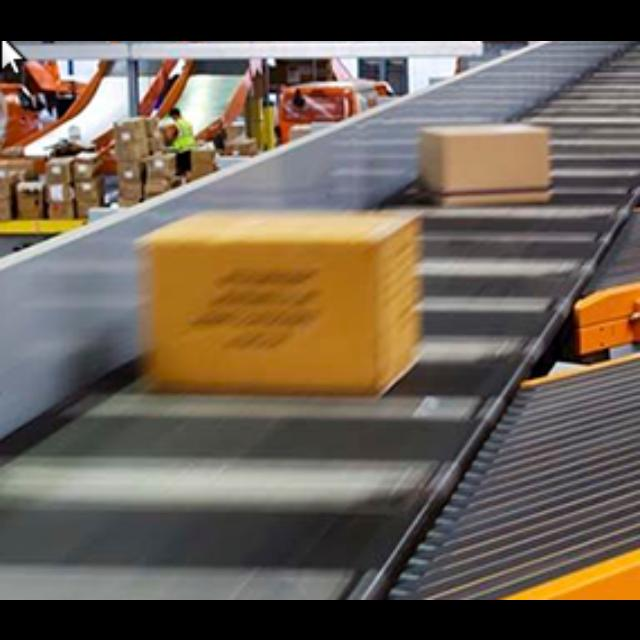box: (143, 207, 423, 389), (422, 122, 552, 205)
